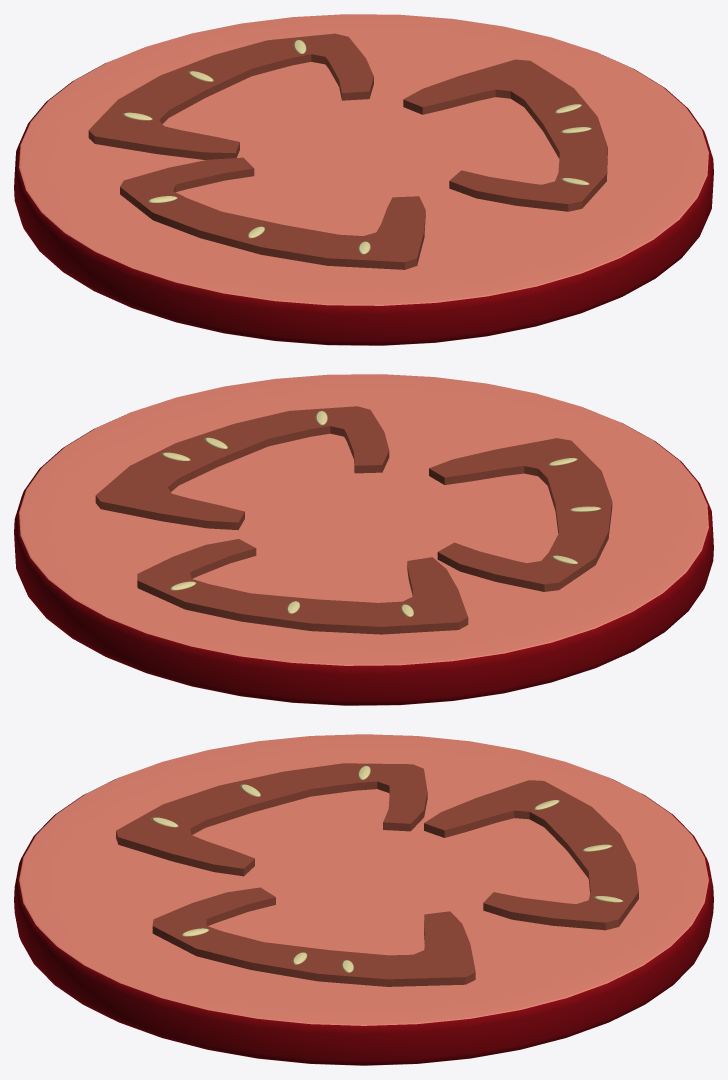
Rendered from Tomato.fbx.
3 renders of one model, top to bottom at view 1: azimuth 30°, elevation 25°; view 2: azimuth 150°, elevation 25°; view 3: azimuth 270°, elevation 25°, orthographic.
Visible parts, largest first — view 1: polySurface10; view 2: polySurface10; view 3: polySurface10.
Boxes of the visible parts, x1,y1,x2,y2 form: polySurface10: [14, 14, 713, 345]; polySurface10: [14, 374, 713, 705]; polySurface10: [14, 734, 713, 1065].
Size of the model in its own units: 2.08 by 0.1703 by 2.08.
